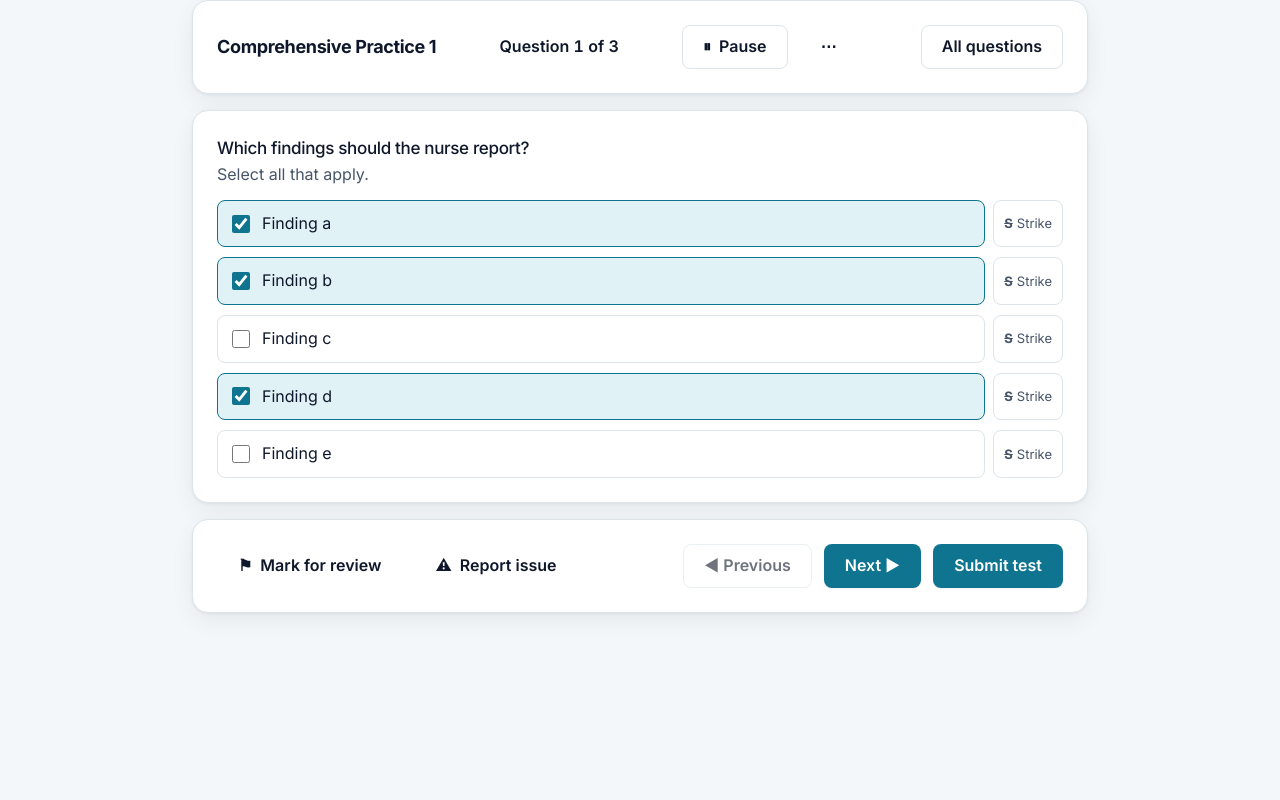
Test: AttemptPlayer submitting › closes the confirmation with Keep working or Escape without submitting
Expected: the heading "Which findings should the nurse report?" is shown, [217, 138, 529, 158]
Click the button "Submit test" at point(998, 566), box [933, 544, 1063, 588]
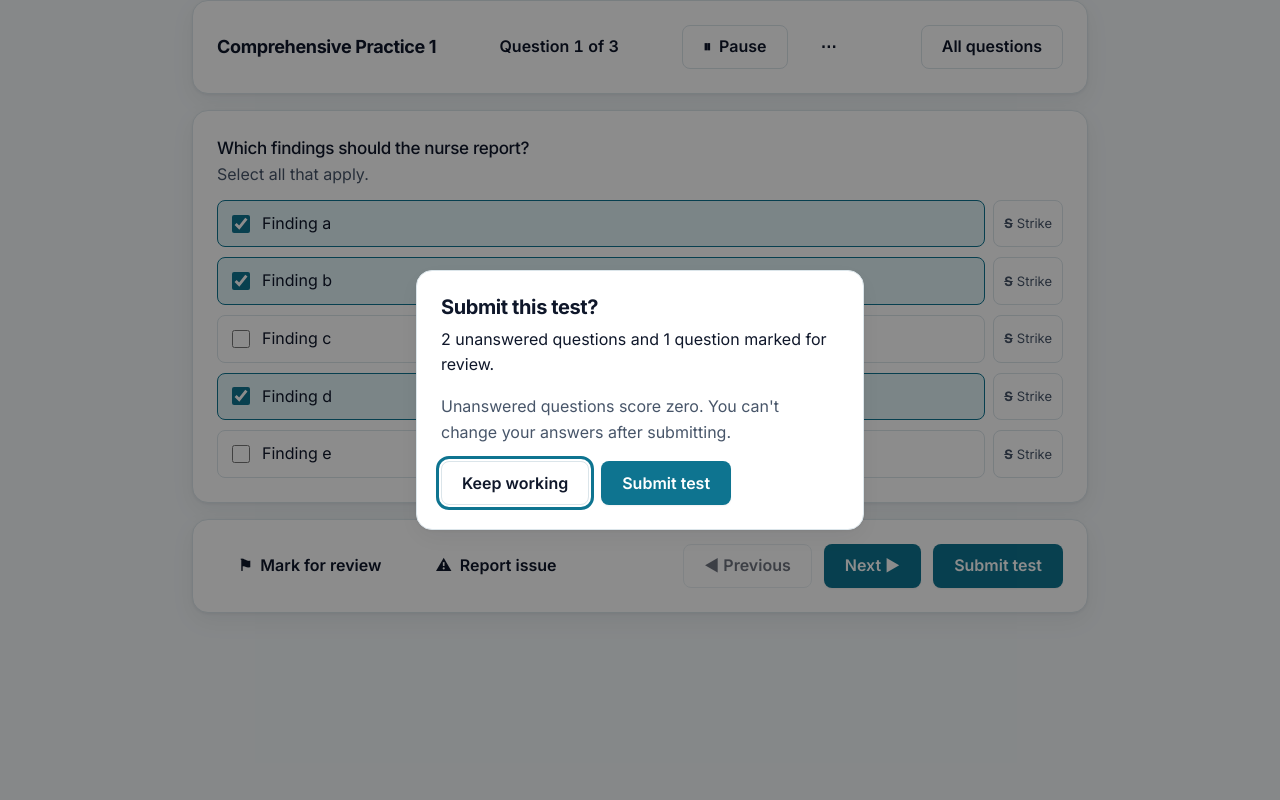
Click the button "Keep working" at point(515, 483), box [441, 461, 589, 505]
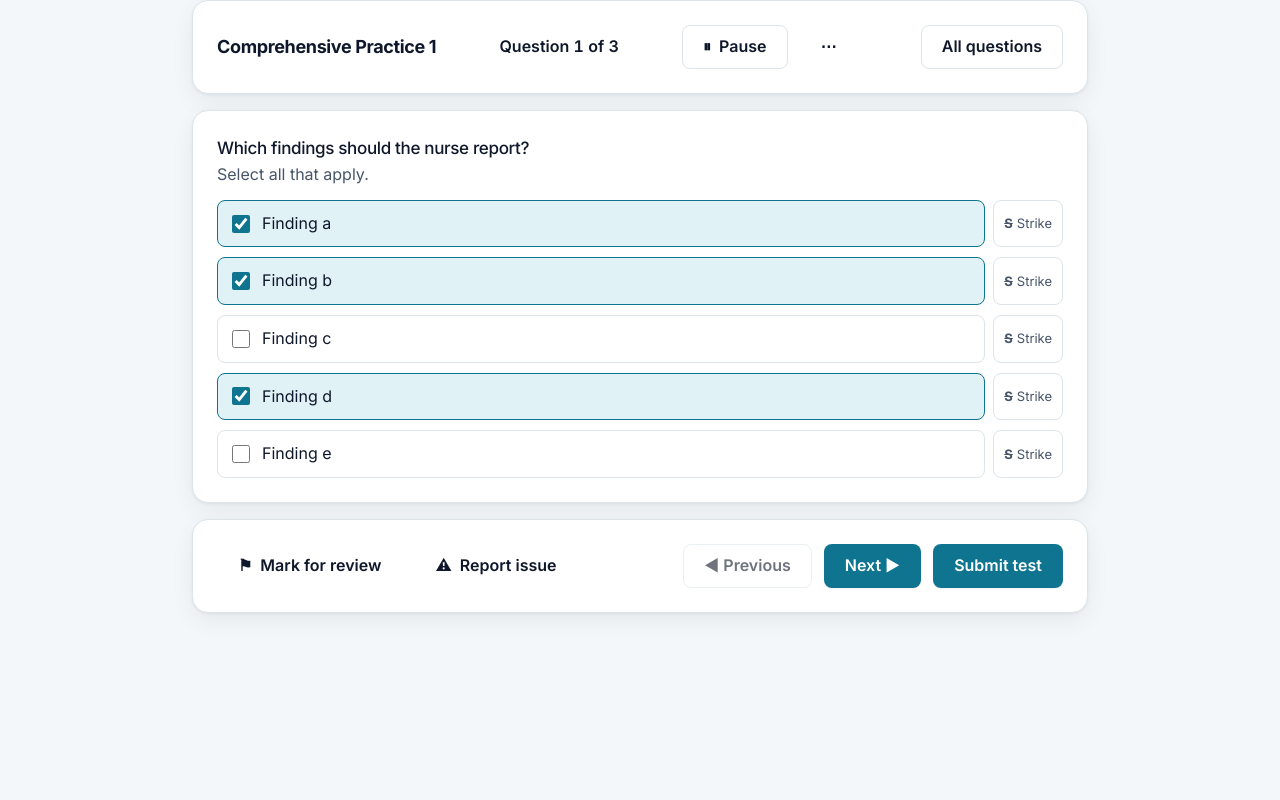
Now the dialog is gone
Click the button "Submit test" at point(998, 566), box [933, 544, 1063, 588]
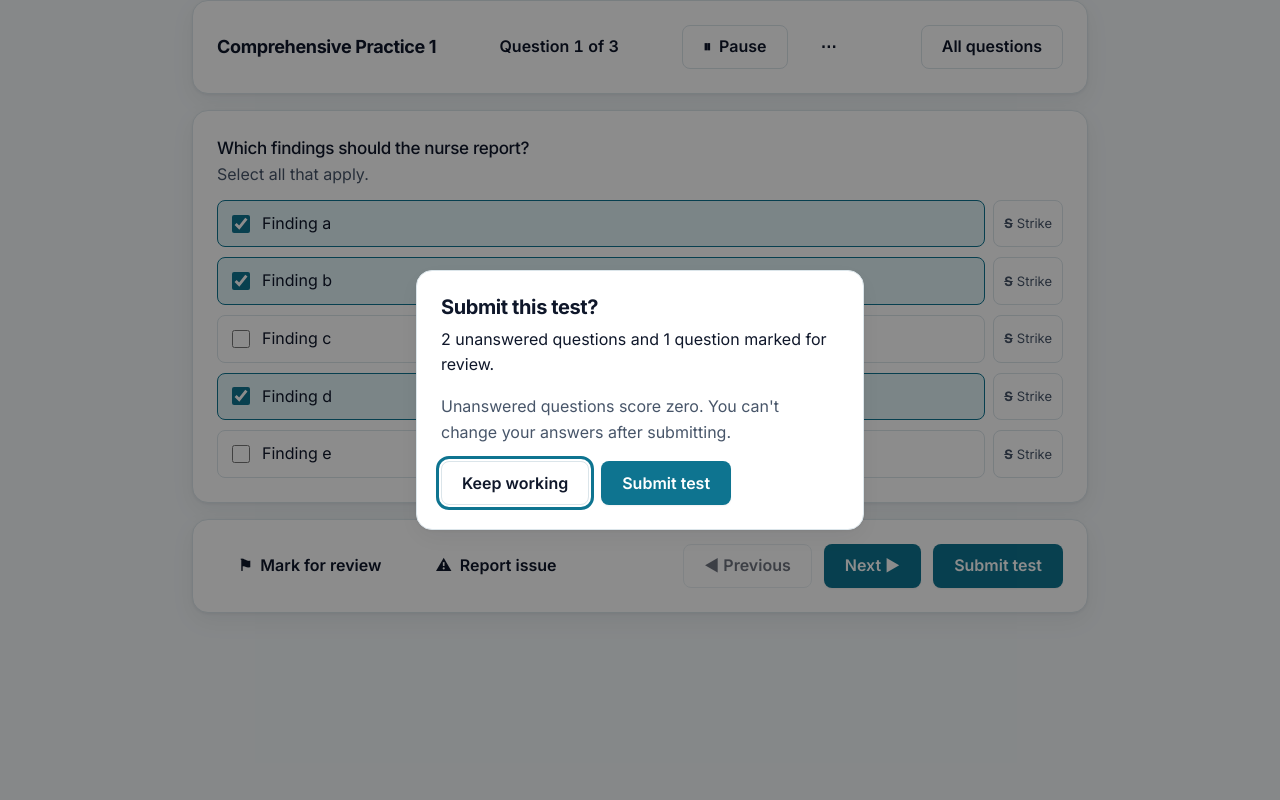
Press Escape
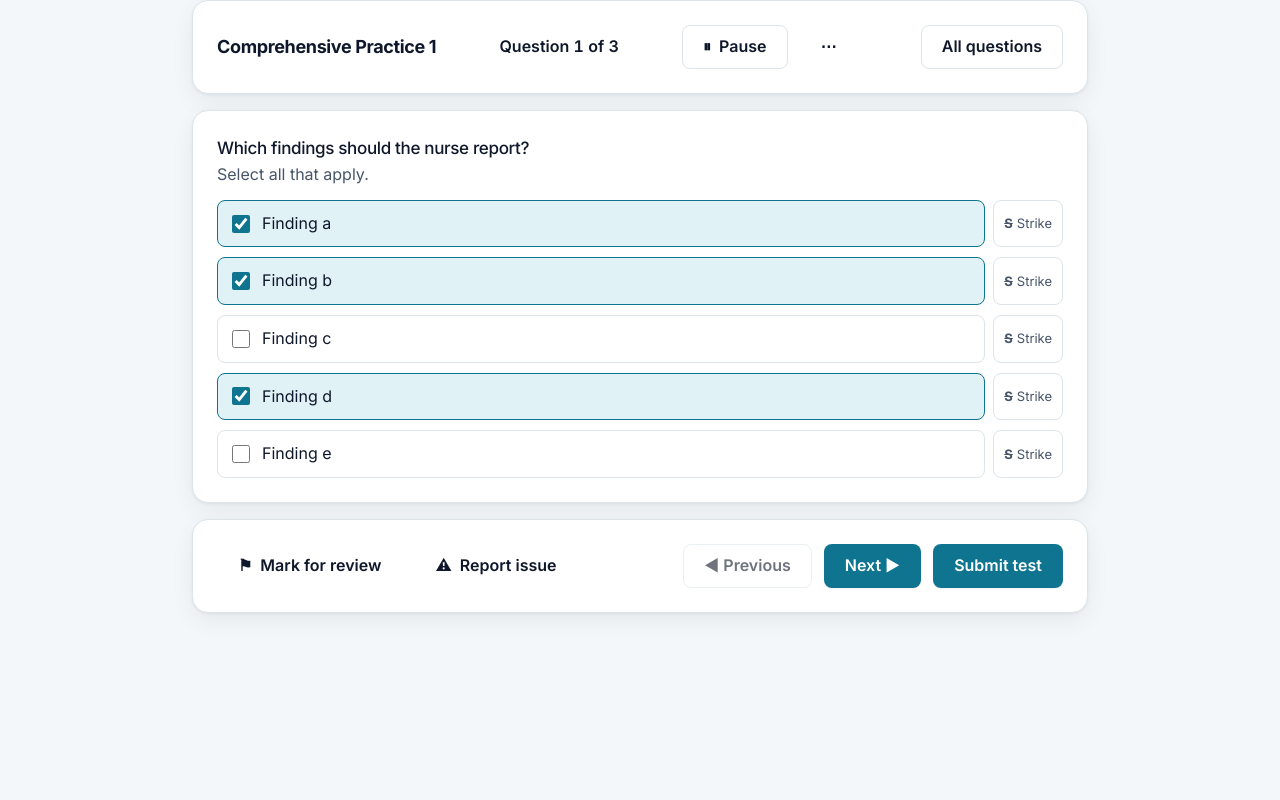
Now the dialog is gone
